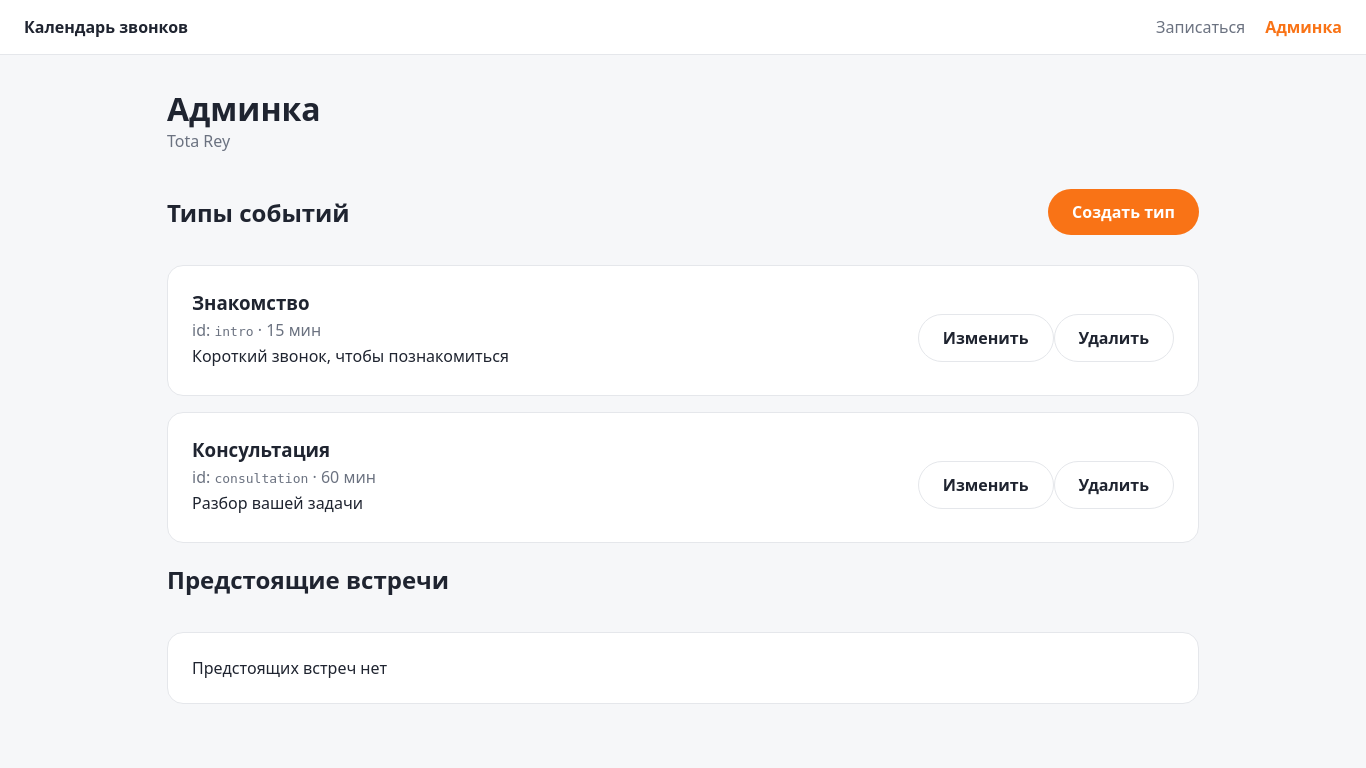
Test: admin event types › deletes only after confirmation
The image size is (1366, 768).
Step 1. Click the button with aria-label "Удалить Знакомство" → [1114, 338], box [1054, 314, 1174, 362]
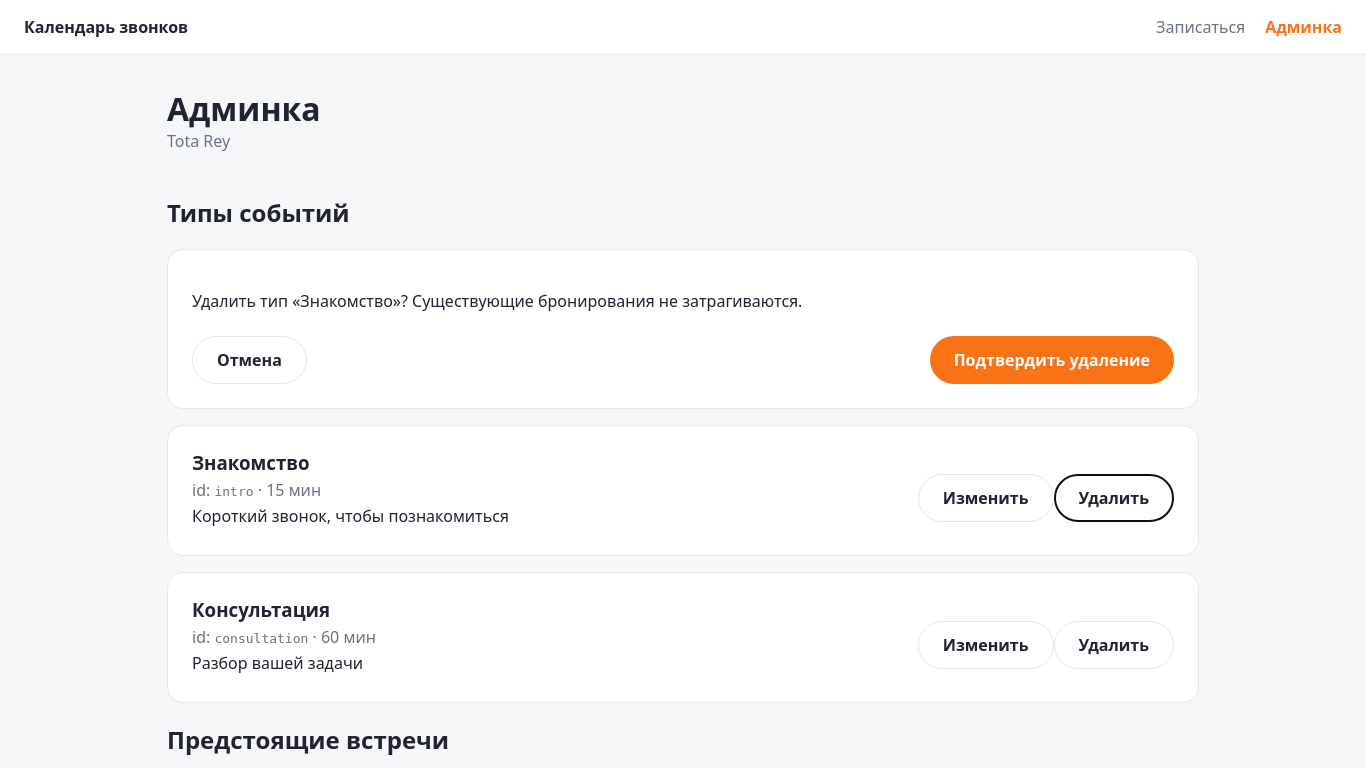
Step 2. Click the button "Отмена" → [249, 360], box [192, 336, 307, 384]
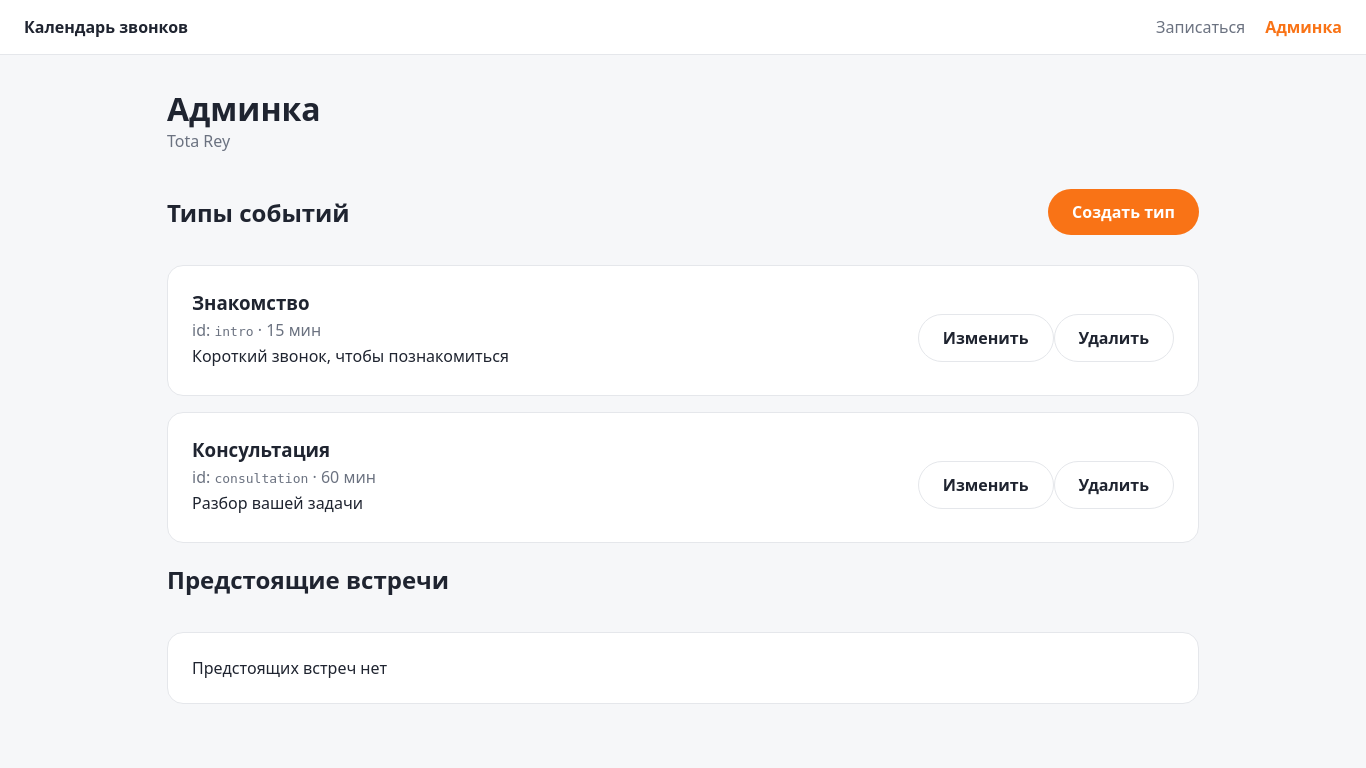
Expected: the heading "Знакомство" is shown, [192, 290, 310, 315]
Result: the dialog is gone
Step 3. Click the button with aria-label "Удалить Знакомство" → [1114, 338], box [1054, 314, 1174, 362]
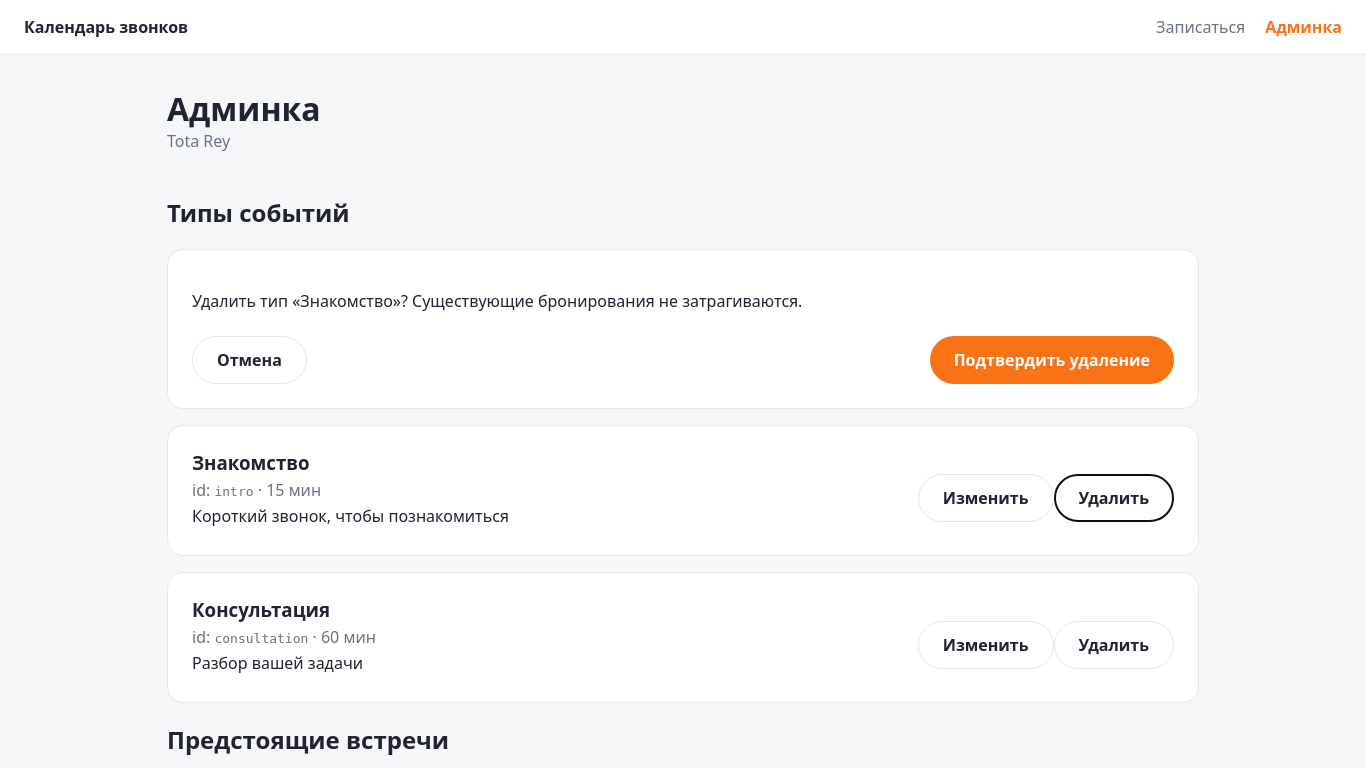
Step 4. Click the button "Подтвердить удаление" → [1052, 360], box [930, 336, 1174, 384]
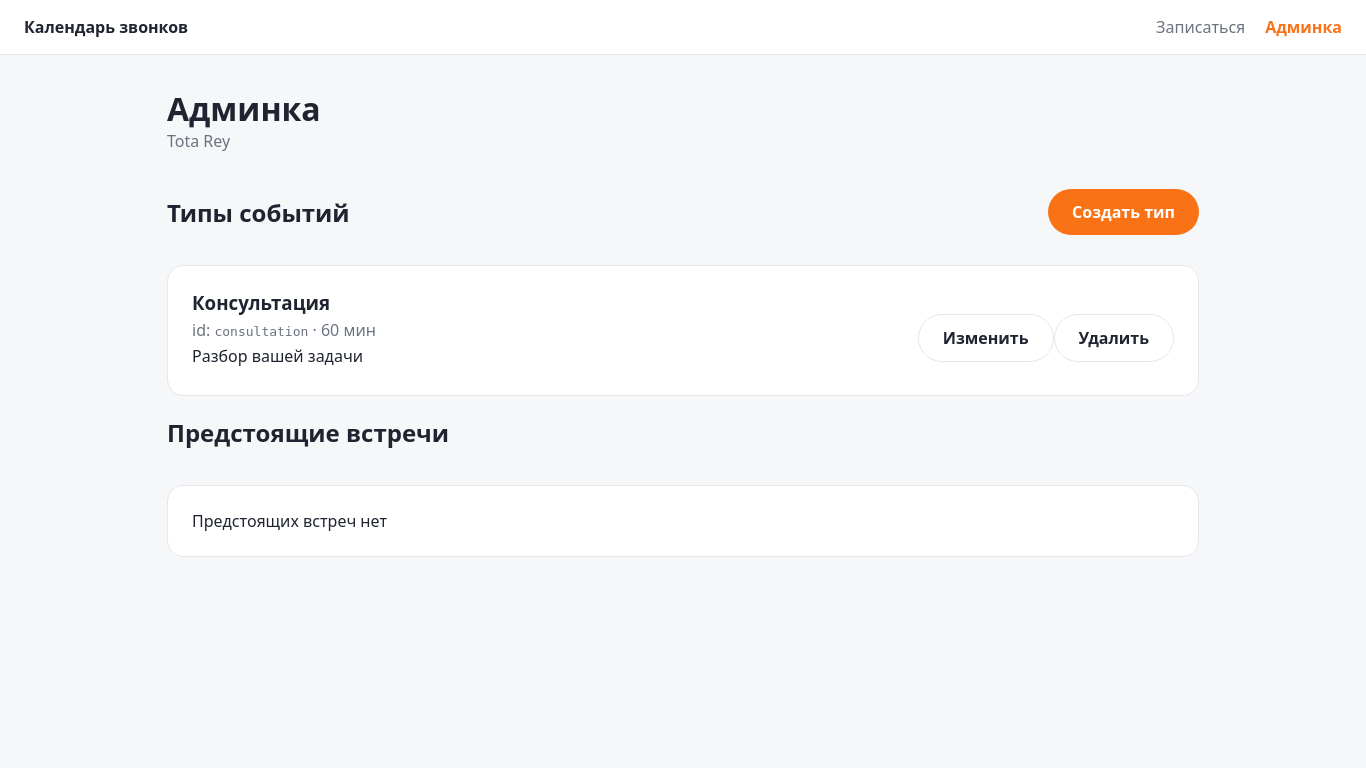
Expected: the heading "Консультация" is shown, [192, 290, 330, 315]
Result: the text "Знакомство" is gone
